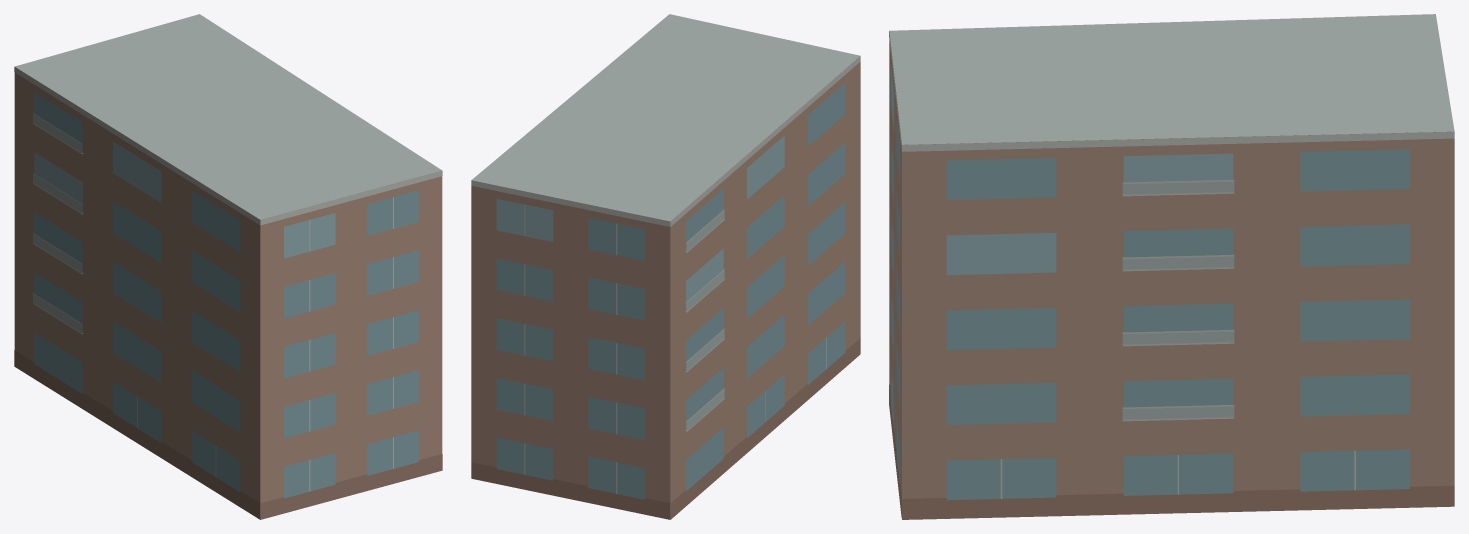
File: survey-upis-32733631.glb
3 views of the same model, side by side, from view 1: azimuth 30°, elevation 25°; view 2: azimuth 150°, elevation 25°; view 3: azimuth 270°, elevation 25° (orthographic). The views are drawn at different scales.
Visible parts, largest first — view 1: survey-upis-32733631.tmp; view 2: survey-upis-32733631.tmp; view 3: survey-upis-32733631.tmp.
Part boxes in pixels (bbox=[...]): survey-upis-32733631.tmp: bbox=[14, 14, 442, 519]; survey-upis-32733631.tmp: bbox=[471, 14, 860, 519]; survey-upis-32733631.tmp: bbox=[889, 14, 1454, 519].
Size of the model in its own units: 9.81 by 13.1 by 17.91.
